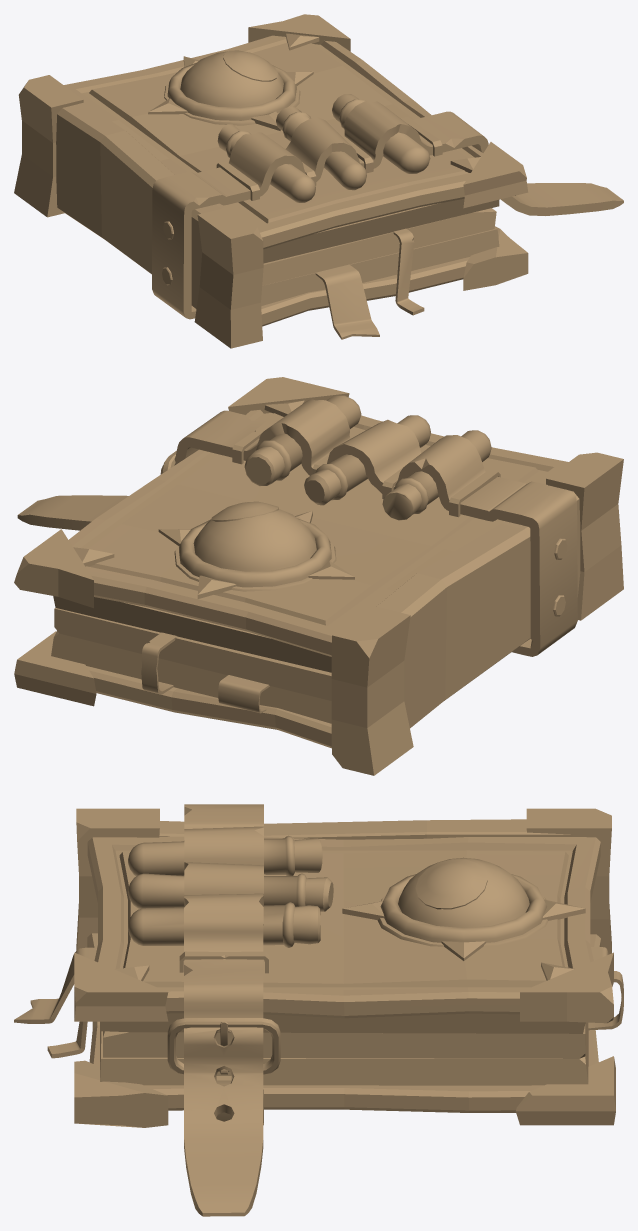
The model's file is fullbook2.fbx.
3 renders of one model, top to bottom at view 1: azimuth 30°, elevation 25°; view 2: azimuth 150°, elevation 25°; view 3: azimuth 270°, elevation 25°, orthographic. The views are drawn at different scales.
Visible parts, largest first — view 1: Cube; view 2: Cube; view 3: Cube.
Part boxes in pixels (bbox=[...]): Cube: bbox=[14, 14, 623, 348]; Cube: bbox=[14, 377, 623, 775]; Cube: bbox=[14, 804, 623, 1216].
Bounding box in the file's own units: 266 × 82.43 × 250.
